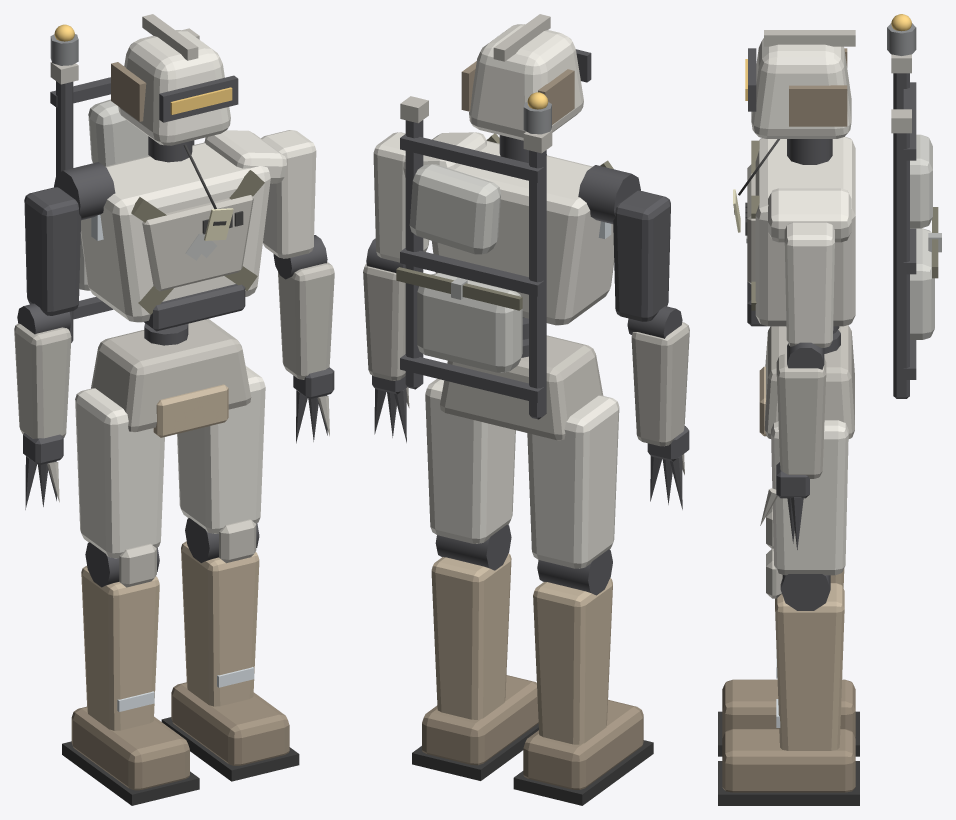
Rendered from stray.glb.
The picture shows the model from 3 angles, left to right: view 1: azimuth 30°, elevation 25°; view 2: azimuth 150°, elevation 25°; view 3: azimuth 270°, elevation 25°; orthographic projection.
Visible parts, largest first — view 1: ring_enamel, ring_enamel.005, ring_enamel_dk, ring_dust.002, ring_dust.001, ring_enamel.003, ring_enamel.002, ring_graphite.019, ring_enamel_dk.001, ring_dust_dk.003, ring_dust_dk.002, ring_enamel_dk.009 (+29 smaller); view 2: ring_enamel, ring_enamel.005, ring_dust.001, ring_dust.002, ring_enamel.003, ring_enamel_dk, ring_enamel.002, ring_foam, ring_graphite.019, ring_foam.001, ring_enamel_dk.009, ring_dust_dk.003 (+22 smaller); view 3: ring_dust.001, ring_enamel, ring_enamel.003, ring_dust_dk.002, ring_enamel.002, ring_enamel.004, ring_enamel_dk.006, ring_graphite.007, ring_enamel_dk, ring_dust_dk.003, ring_enamel.001, ring_dust_dk (+19 smaller).
Boxes of the visible parts, <box> form: ring_enamel: <box>80,142,270,322</box>; ring_enamel.005: <box>75,388,164,558</box>; ring_enamel_dk: <box>91,319,251,432</box>; ring_dust.002: <box>81,566,159,730</box>; ring_dust.001: <box>181,541,259,706</box>; ring_enamel.003: <box>177,366,265,533</box>; ring_enamel.002: <box>118,30,230,145</box>; ring_graphite.019: <box>24,187,81,315</box>; ring_enamel_dk.001: <box>142,195,253,291</box>; ring_dust_dk.003: <box>71,706,189,790</box>; ring_dust_dk.002: <box>171,682,289,765</box>; ring_enamel_dk.009: <box>14,323,71,438</box>; ring_enamel: <box>432,141,614,325</box>; ring_enamel.005: <box>527,395,619,568</box>; ring_dust.001: <box>431,553,511,719</box>; ring_dust.002: <box>533,578,612,744</box>; ring_enamel.003: <box>425,378,515,543</box>; ring_enamel_dk: <box>440,335,603,440</box>; ring_enamel.002: <box>469,24,583,140</box>; ring_foam: <box>417,273,522,372</box>; ring_graphite.019: <box>613,190,670,321</box>; ring_foam.001: <box>409,164,500,254</box>; ring_enamel_dk.009: <box>631,322,689,446</box>; ring_dust_dk.003: <box>523,699,643,789</box>; ring_dust.001: <box>775,583,844,750</box>; ring_enamel: <box>755,136,855,326</box>; ring_enamel.003: <box>771,420,848,575</box>; ring_dust_dk.002: <box>722,729,855,792</box>; ring_enamel.002: <box>751,38,851,138</box>; ring_enamel.004: <box>784,222,834,347</box>; ring_enamel_dk.006: <box>776,354,826,478</box>; ring_graphite.007: <box>893,133,909,398</box>; ring_enamel_dk: <box>764,325,854,438</box>; ring_dust_dk.003: <box>722,679,855,737</box>; ring_enamel.001: <box>768,188,851,242</box>; ring_dust_dk: <box>789,85,847,126</box>.
Bounding box in the file's own units: 0.851 × 1.93 × 0.5365.
